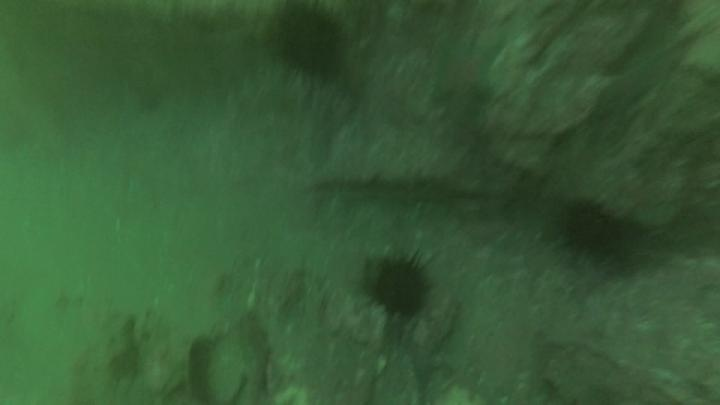echinus: (268, 4, 350, 84), (363, 250, 436, 323), (556, 196, 632, 266)
starfish: (429, 34, 506, 108)
